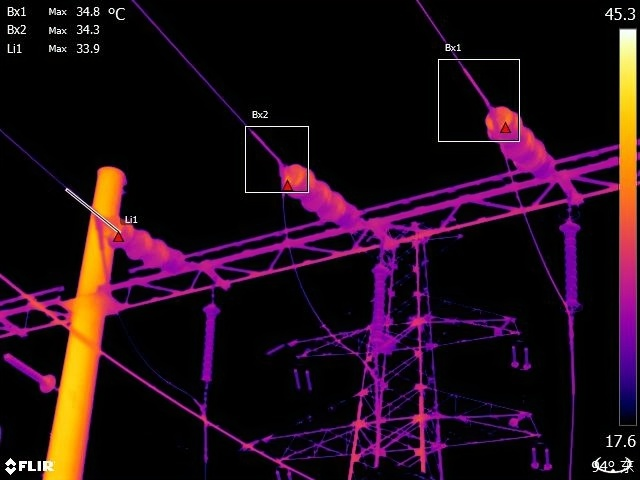insulator: (484, 99, 562, 184), (276, 160, 369, 230), (103, 215, 190, 277), (557, 215, 586, 313), (2, 348, 59, 397), (367, 258, 395, 341), (197, 299, 222, 388), (291, 362, 318, 399), (508, 339, 534, 374), (528, 443, 554, 475)
